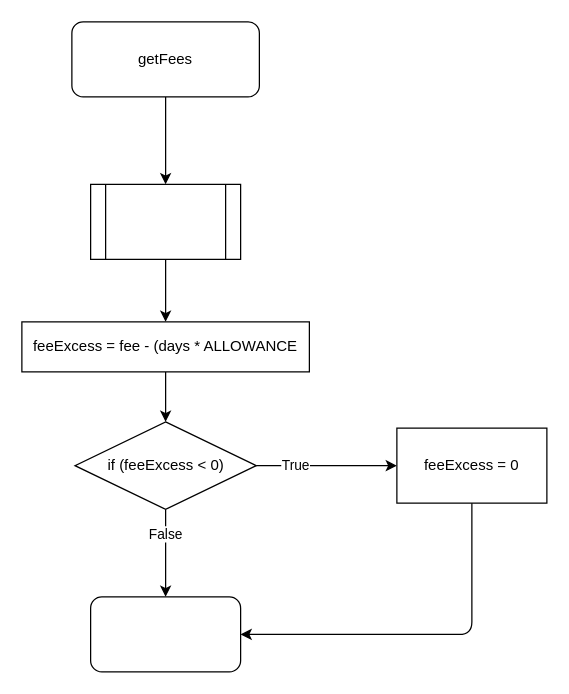
Some shapes in this 569 by 694 pixel diagram are drawn without their labels. Each missing label, with the centre of its shape:
"End Function" goes at point 165,634.
"fee = getValue()" goes at point 165,221.
